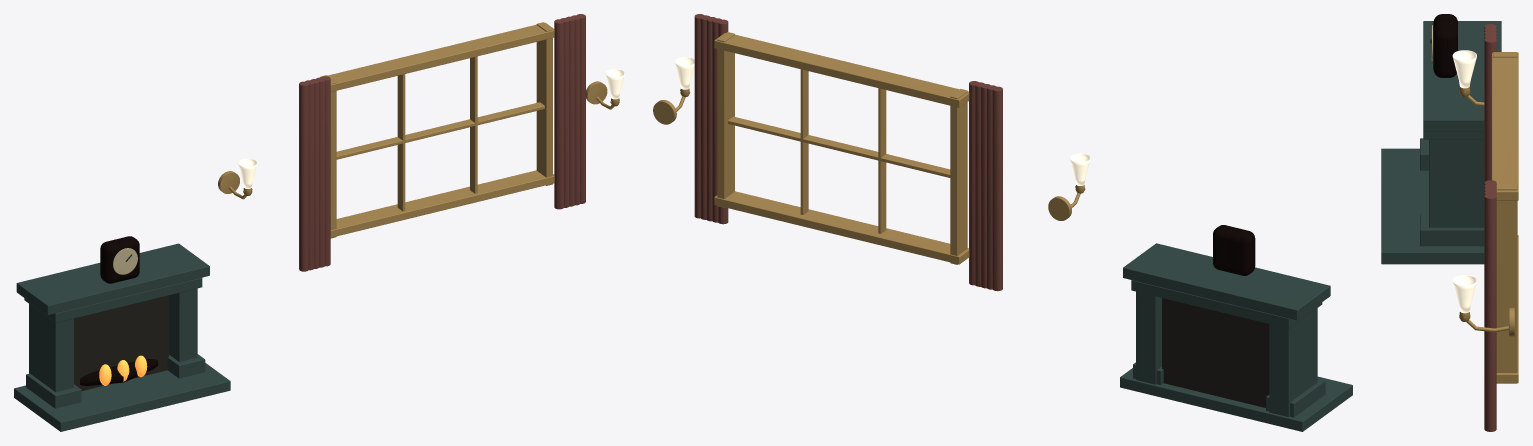
The model's file is north.glb.
The picture shows the model from 3 angles, left to right: view 1: azimuth 30°, elevation 25°; view 2: azimuth 150°, elevation 25°; view 3: azimuth 270°, elevation 25°; orthographic projection. The views are drawn at different scales.
Parts seen in each view (by area): view 1: victorian-study north; view 2: victorian-study north; view 3: victorian-study north.
Boxes of the visible parts, left/top/right/bottom form: victorian-study north: left=14, top=14, right=624, bottom=431; victorian-study north: left=653, top=14, right=1352, bottom=431; victorian-study north: left=1381, top=14, right=1518, bottom=431.
Size of the model in its own units: 7.73 by 3.05 by 1.22.
Materials: 10 (1 with a texture image).
